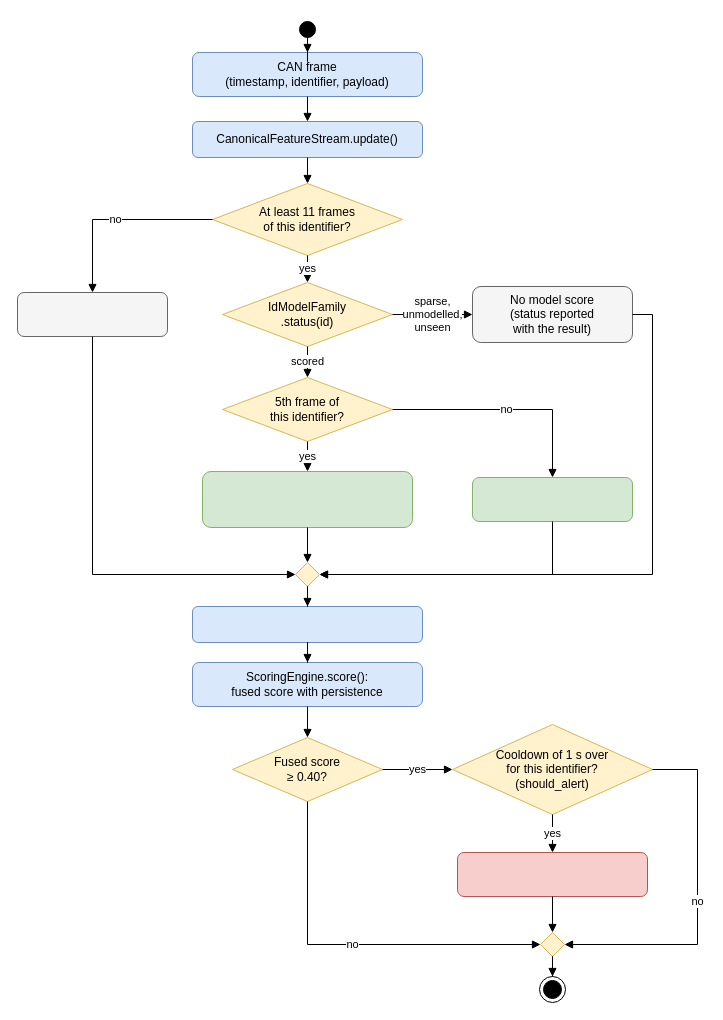
The diagram is 723 pixels wide and 1020 high, and some of its shapes have lost their labels. Here are the shapes that lost their labels. From the top down, the centre of each, then its label:
the point at 92,314: No model score (status: warmup)
the point at 307,499: IdModel.score: raw score, normalised with threshold and median
the point at 552,499: Reuse the last score of this identifier
the point at 307,624: Timing layer and payload layer
the point at 552,874: AlertSystem.emit(): alert with its severity
